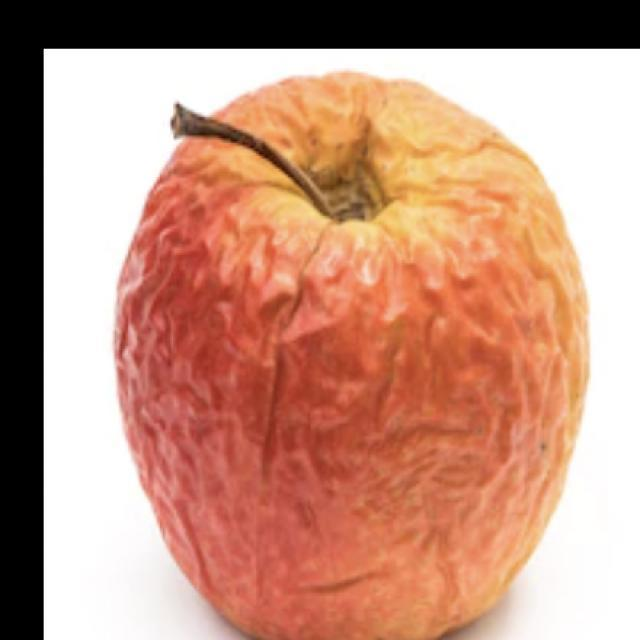Rotten: (101, 64, 599, 640)
